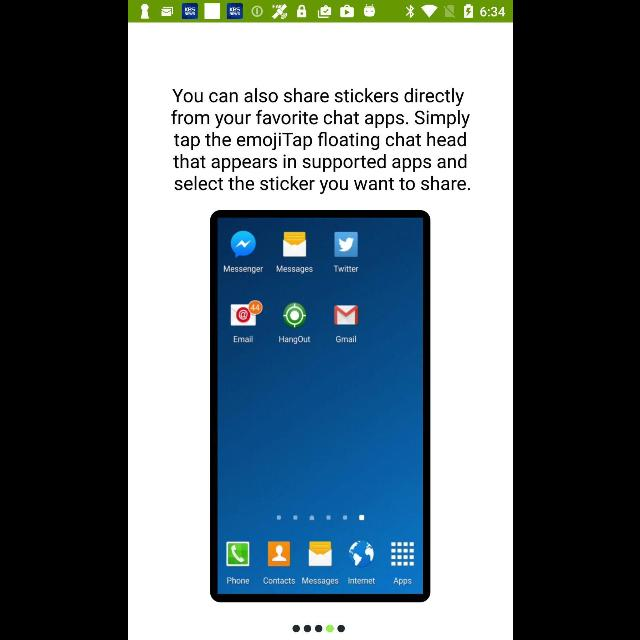image: (208, 211, 430, 603)
pageindicator: (292, 625, 344, 633)
text: (170, 88, 470, 194)
uppertaskbar: (128, 1, 512, 23)
